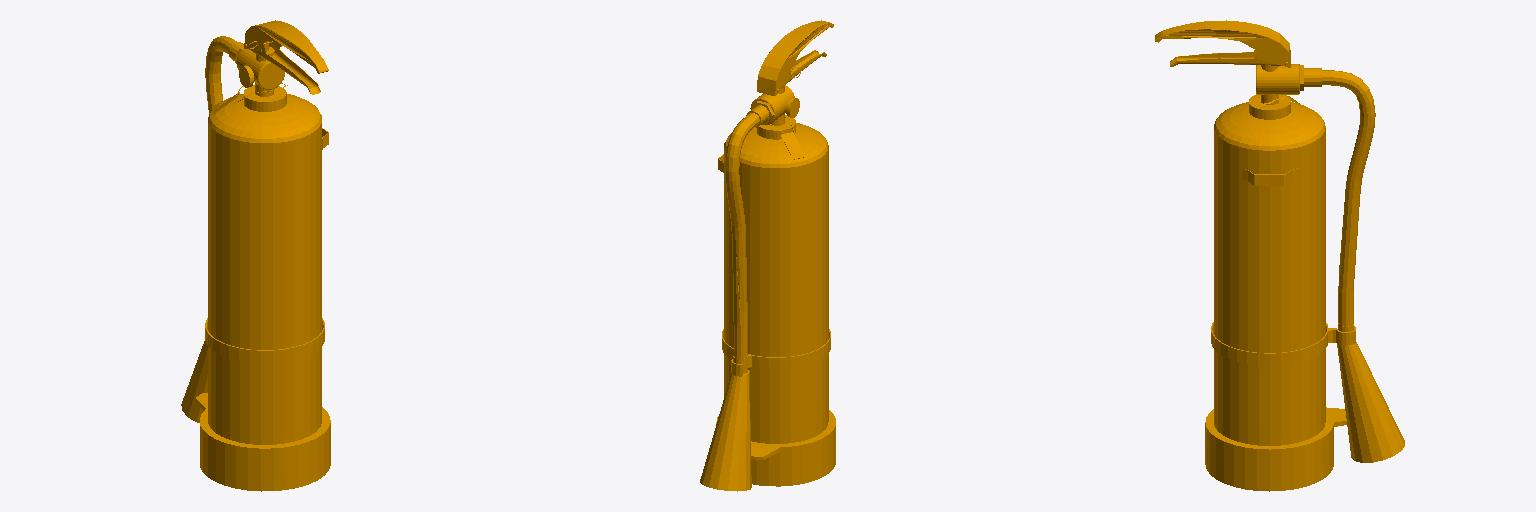
The robot description file, URDF, robot "mesh_object":
<?xml version="1.0" ?>
<robot name="mesh_object">
  <link name="base">
    <visual>
      <geometry>
        <mesh filename="fire_extinguisher_4.obj" scale="1 1 1"/>
      </geometry>
    </visual>
    <collision>
      <geometry>
        <mesh filename="fire_extinguisher_4.obj" scale="1 1 1"/>
      </geometry>
    </collision>
    <inertial>
      <origin xyz="0.000752 0.008214 0.101389" rpy="0 0 0"/>
      <mass value="0.5"/>
      <inertia ixx="0.01" iyy="0.01" izz="0.01" ixy="0" ixz="0" iyz="0"/>
    </inertial>
  </link>
</robot>

--- Render facts (derived) ---
3 views of the same robot in one strip: view 1: azimuth 30°, elevation 25°; view 2: azimuth 150°, elevation 25°; view 3: azimuth 270°, elevation 25° (orthographic).
Model mesh_object with 1 links and 0 joints (none), rooted at base, posed all joints at 0.
Links seen in each view (by area): view 1: base; view 2: base; view 3: base.
Link boxes in pixels (x1,y1,x2,y2): base: (181, 20, 330, 491); base: (700, 20, 835, 491); base: (1155, 20, 1404, 491).
Bounding box of the posed robot: 0.0538 × 0.1046 × 0.2028 m (x, y, z).
Meshes: 1 distinct files referenced, 1 mesh visuals loaded (1 OBJ).
